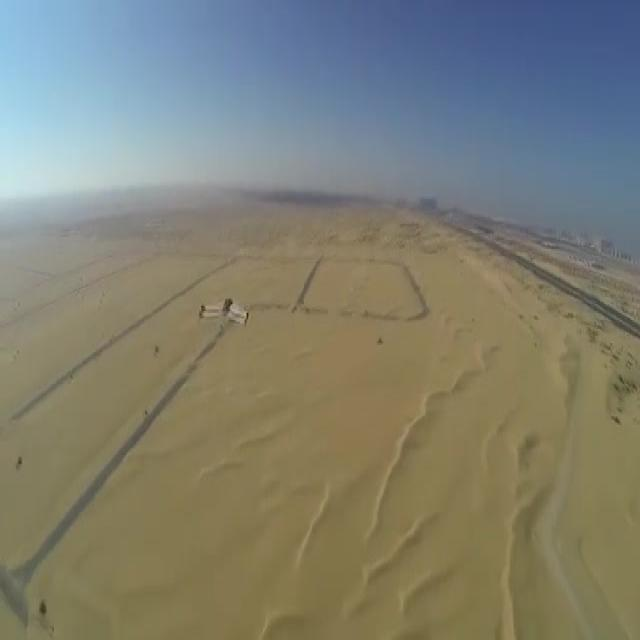iha: (198, 297, 250, 328)
